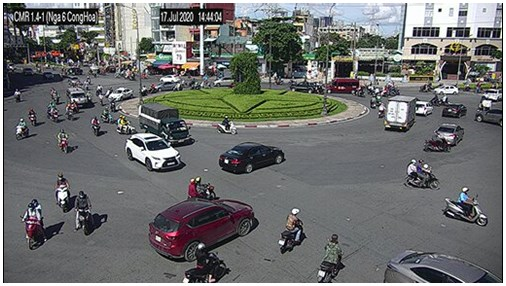xe_hoi: (147, 198, 256, 261), (385, 248, 501, 284), (124, 132, 182, 171), (219, 142, 285, 172), (434, 123, 464, 147), (475, 108, 503, 129), (290, 80, 321, 94), (442, 103, 467, 119), (109, 87, 135, 101), (415, 99, 432, 117), (213, 76, 239, 87), (433, 85, 459, 96), (484, 88, 502, 103), (154, 81, 176, 91)
xe_khach: (323, 78, 359, 93), (65, 87, 86, 108)
xe_may: (184, 243, 228, 283), (444, 187, 487, 227), (21, 198, 47, 250), (278, 207, 306, 255), (319, 233, 343, 282), (405, 159, 441, 191), (74, 190, 94, 235), (55, 171, 71, 214), (424, 129, 451, 152), (116, 114, 136, 135), (217, 115, 237, 135), (15, 116, 30, 142), (57, 129, 70, 155), (46, 100, 59, 122), (90, 115, 100, 137), (101, 107, 113, 125), (49, 86, 60, 104), (438, 91, 451, 105), (28, 108, 38, 126), (13, 88, 22, 103), (352, 86, 365, 96), (97, 91, 105, 106), (86, 90, 93, 107), (430, 93, 439, 106), (66, 105, 73, 121), (370, 94, 377, 110), (378, 102, 385, 118), (173, 81, 183, 91), (190, 79, 201, 88), (95, 83, 103, 95), (140, 84, 148, 95), (110, 97, 116, 111), (149, 82, 156, 93)
xe_tai: (140, 102, 191, 146), (382, 95, 416, 132)
